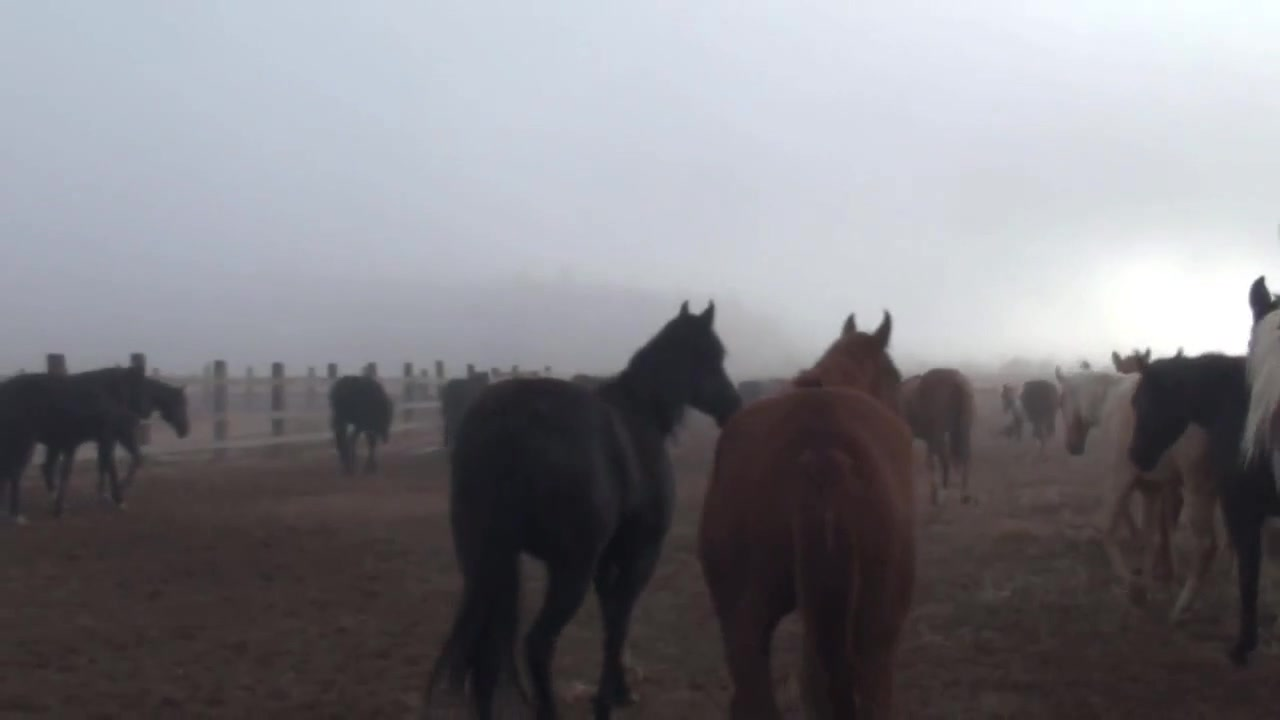horse: (699, 309, 915, 720)
